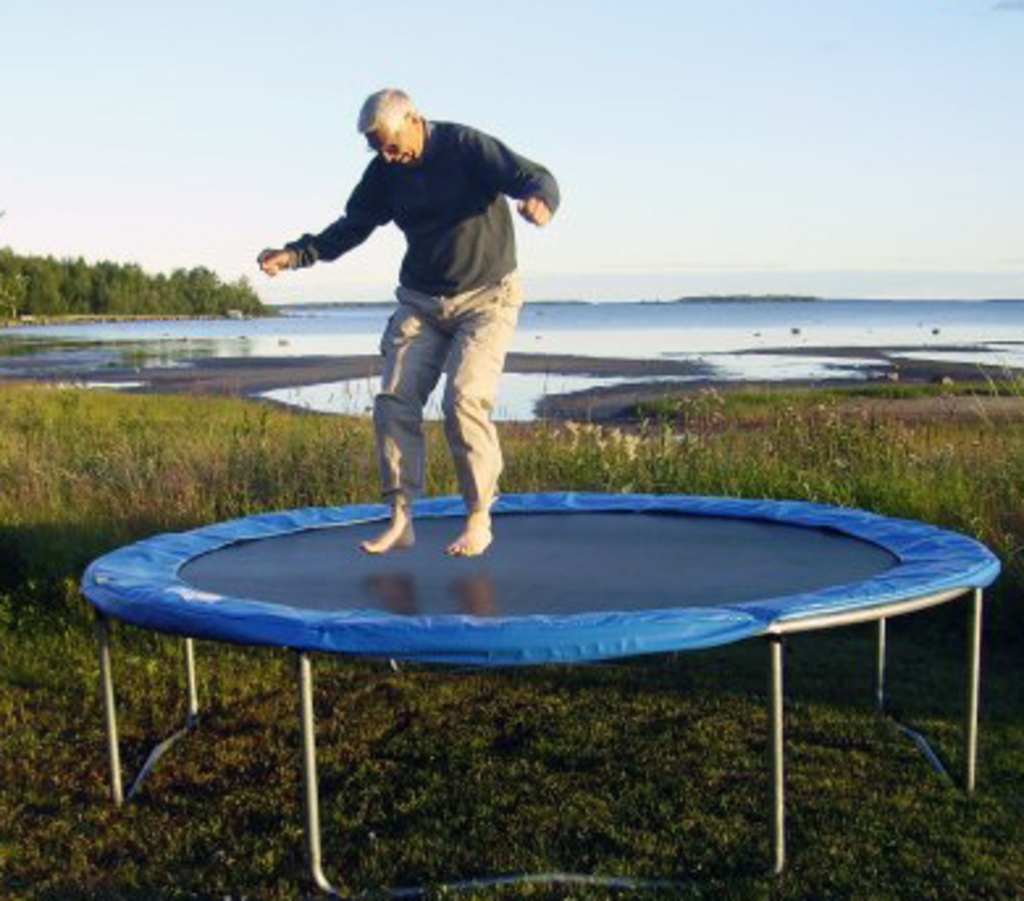Person: (255, 87, 560, 556)
